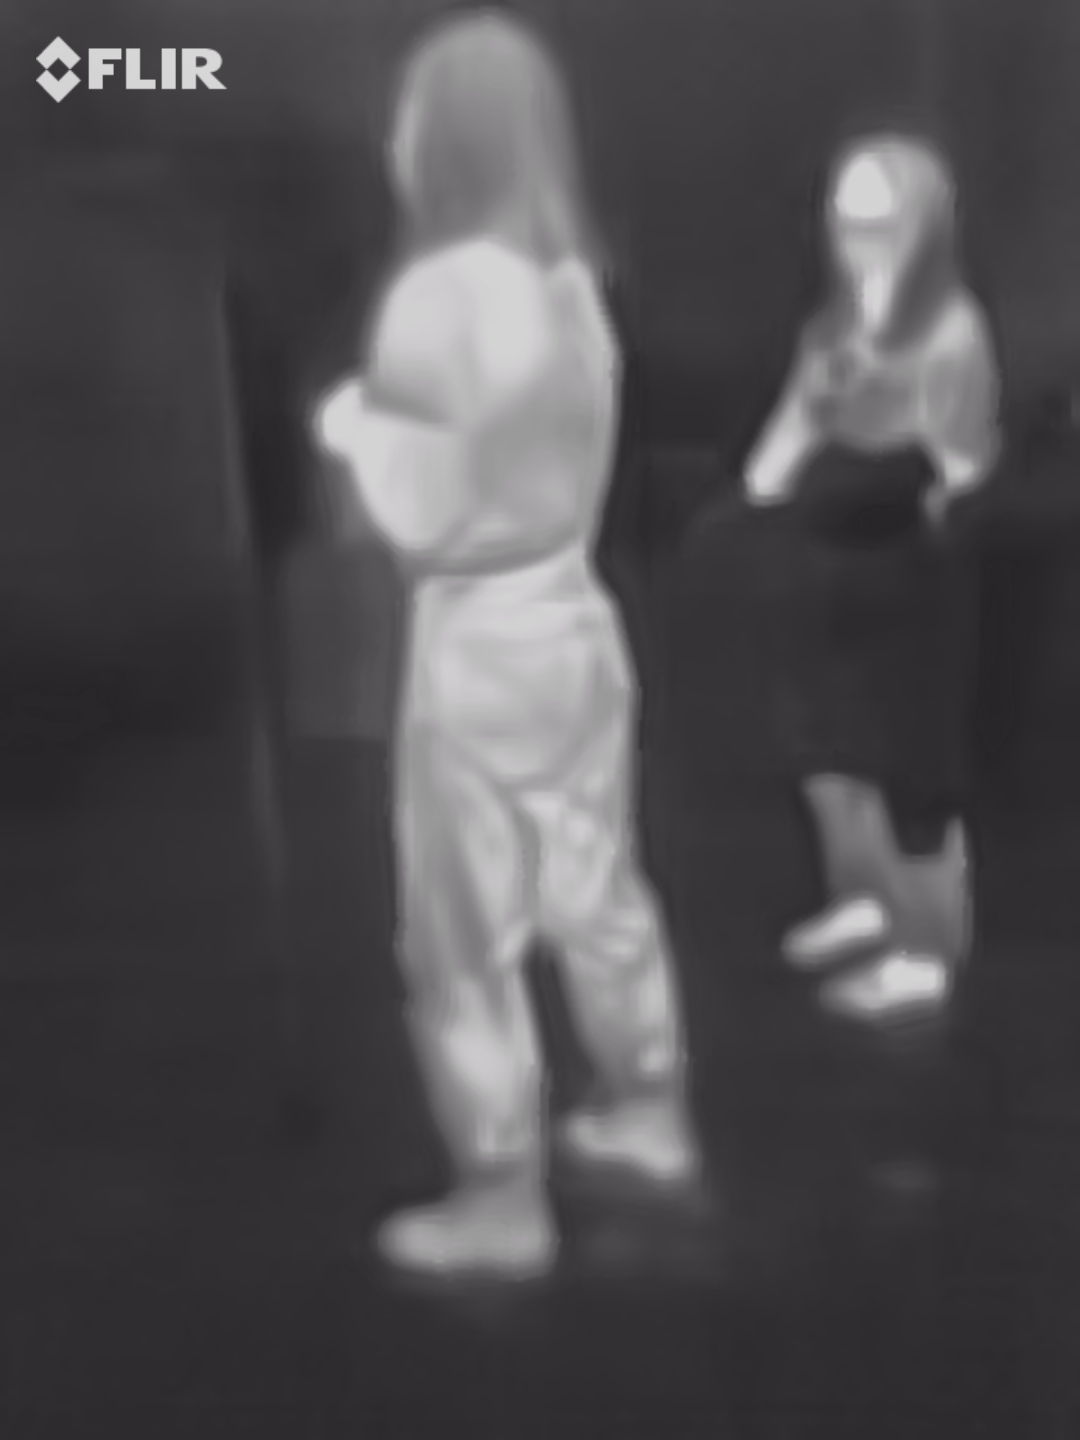head: (826, 131, 954, 281)
